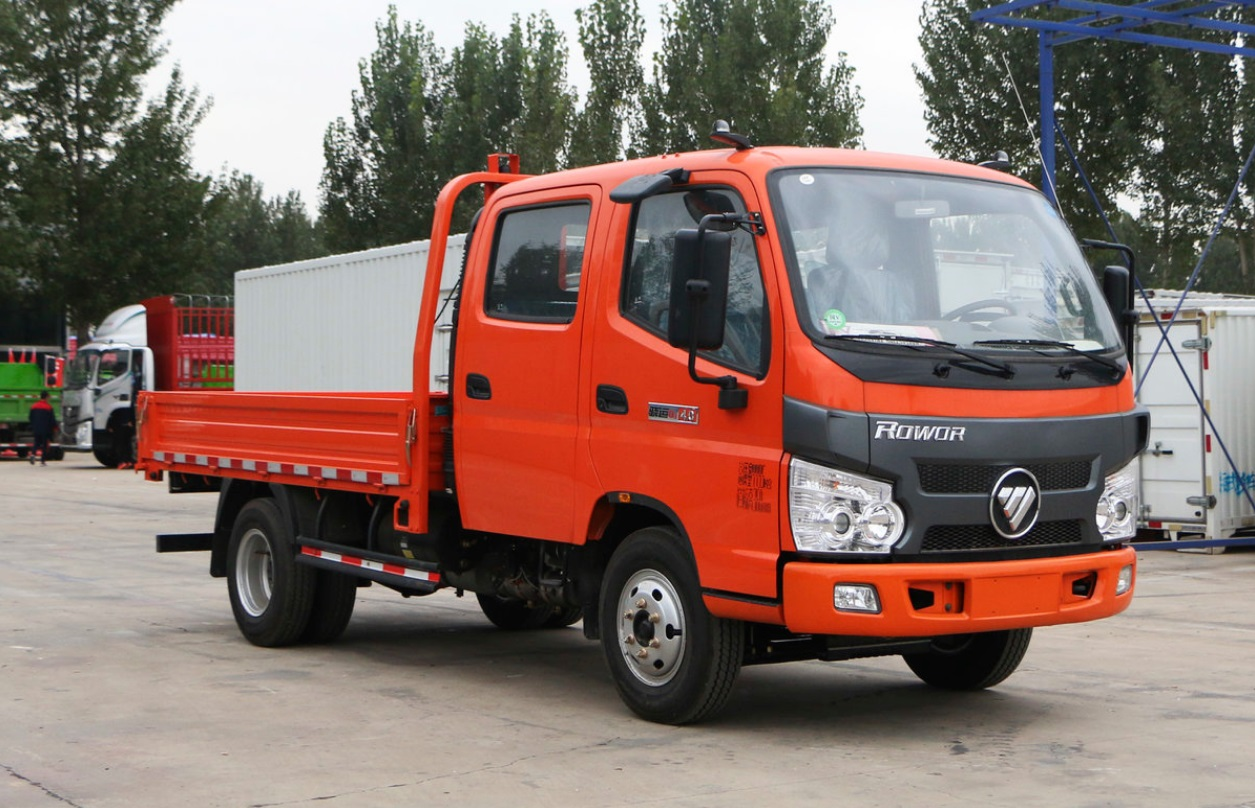truck: (132, 118, 1150, 740)
